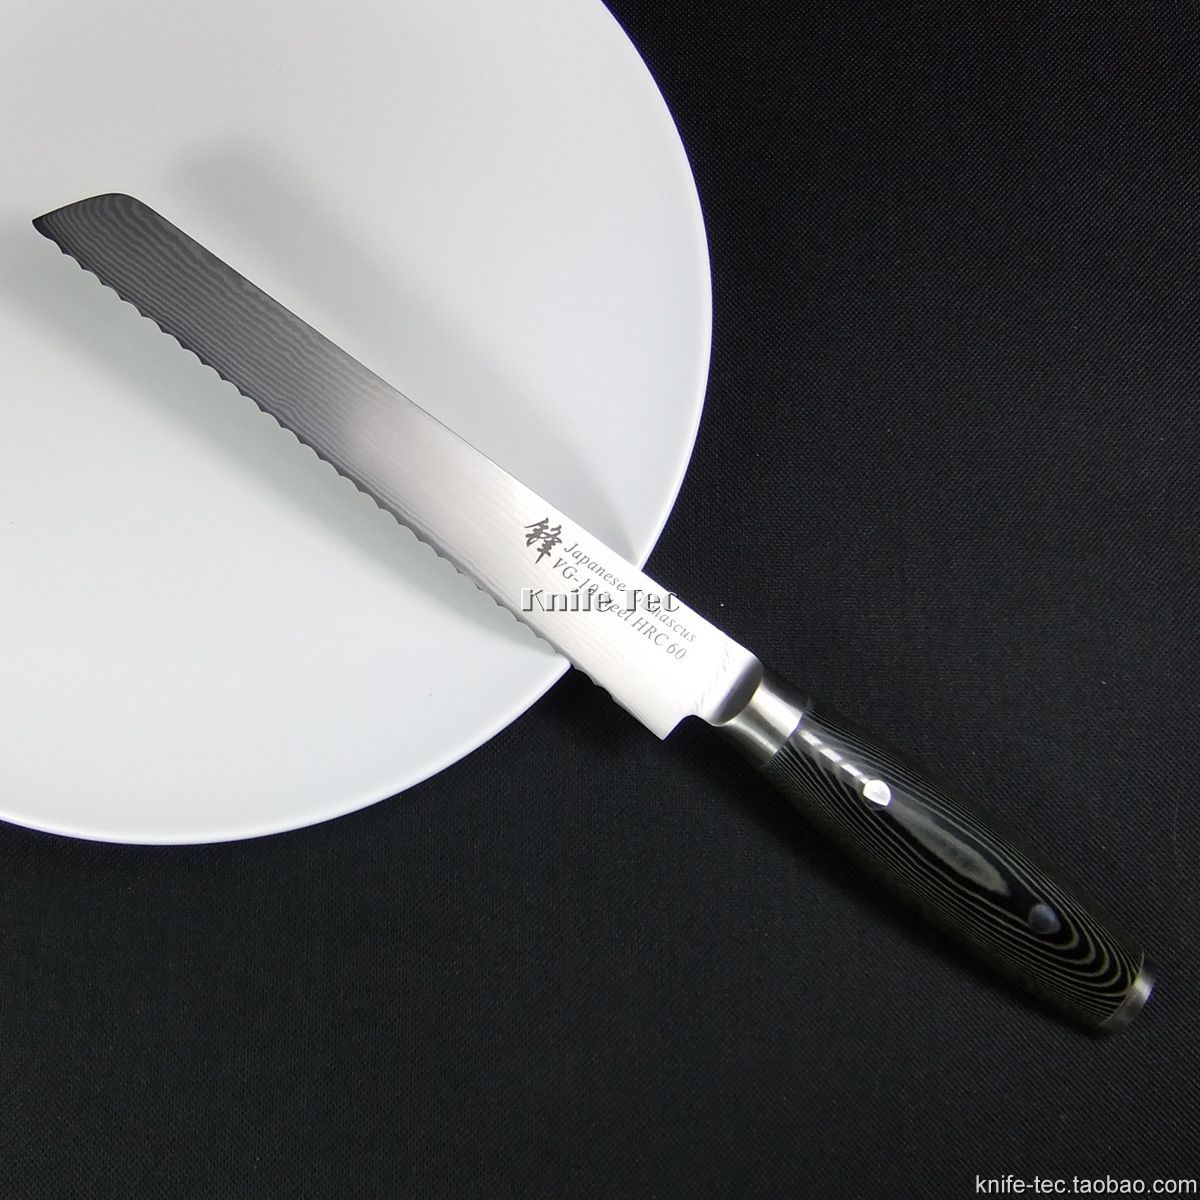knief: (27, 180, 1138, 1013)
